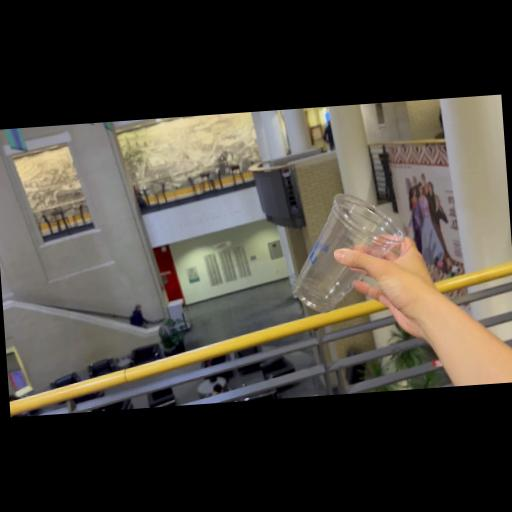lp_plastic_cup: (287, 190, 409, 314)
